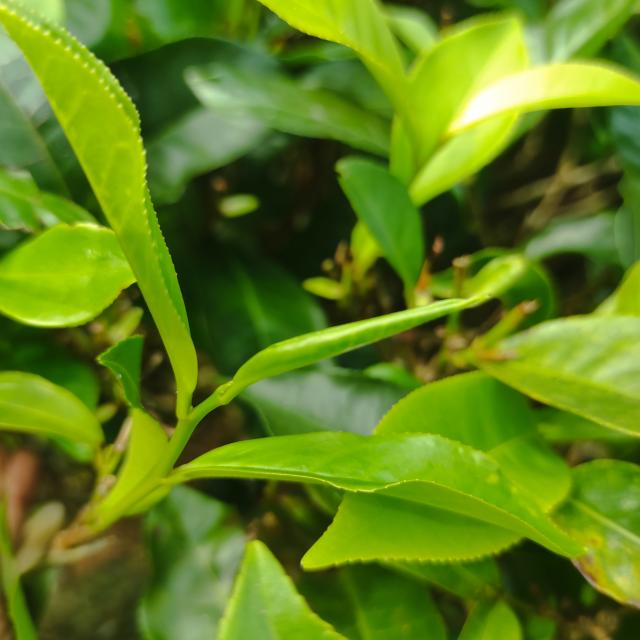unopened_leaf: (208, 288, 498, 412)
